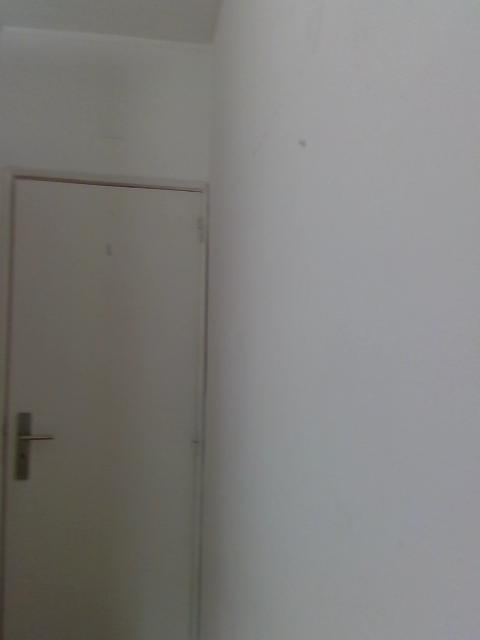door: (13, 178, 202, 640)
